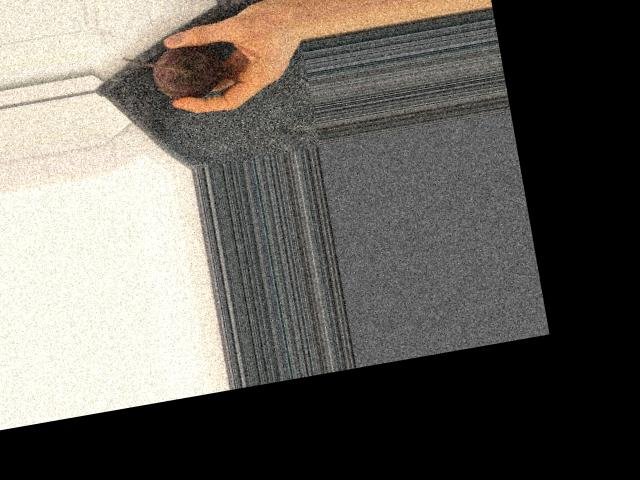beet: (121, 40, 225, 109)
